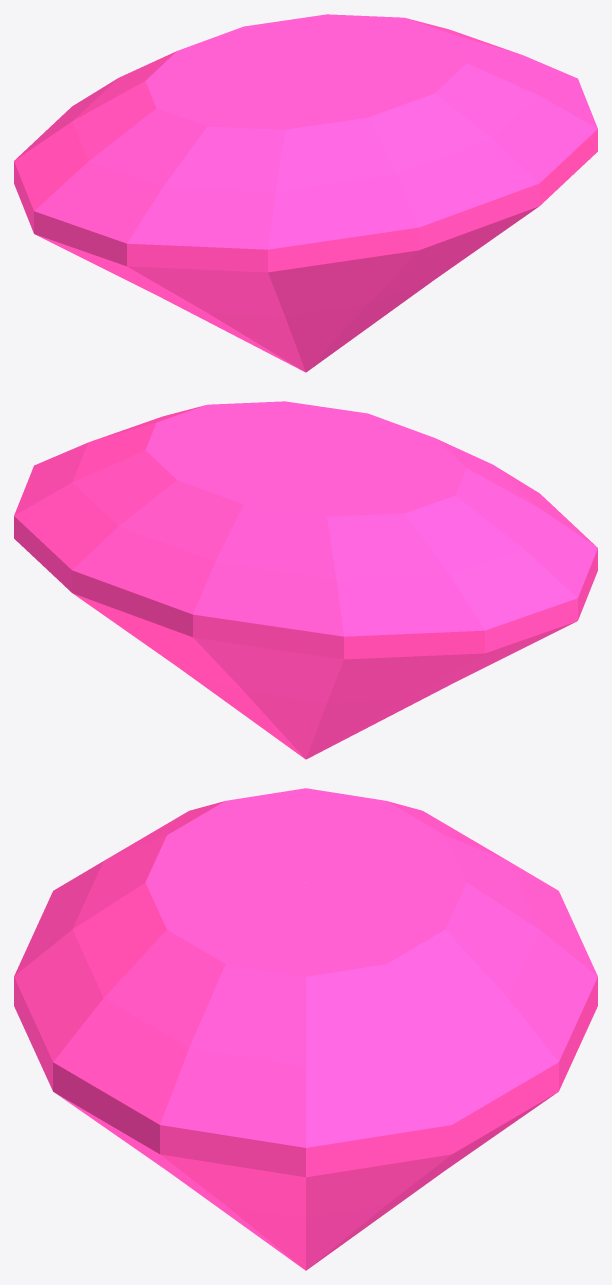
File: ruby-jewel.glb
3 renders of one model, top to bottom at view 1: azimuth 30°, elevation 25°; view 2: azimuth 150°, elevation 25°; view 3: azimuth 270°, elevation 25°, orthographic. The views are drawn at different scales.
Parts seen in each view (by area): view 1: Ruby; view 2: Ruby; view 3: Ruby.
Part boxes in pixels (bbox=[...]): Ruby: bbox=[14, 14, 597, 372]; Ruby: bbox=[14, 401, 597, 759]; Ruby: bbox=[14, 788, 597, 1270].
Bounding box in the file's own units: 2.5 × 1.32 × 1.8.
